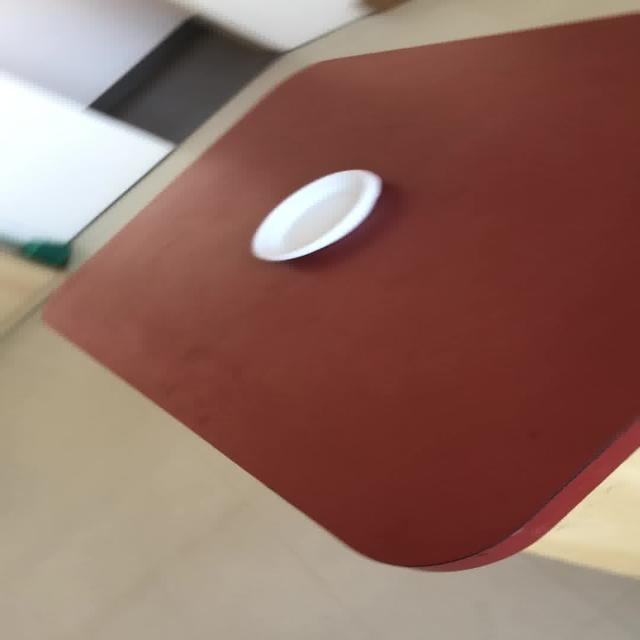plate: (35, 1, 638, 572), (249, 168, 382, 262)
